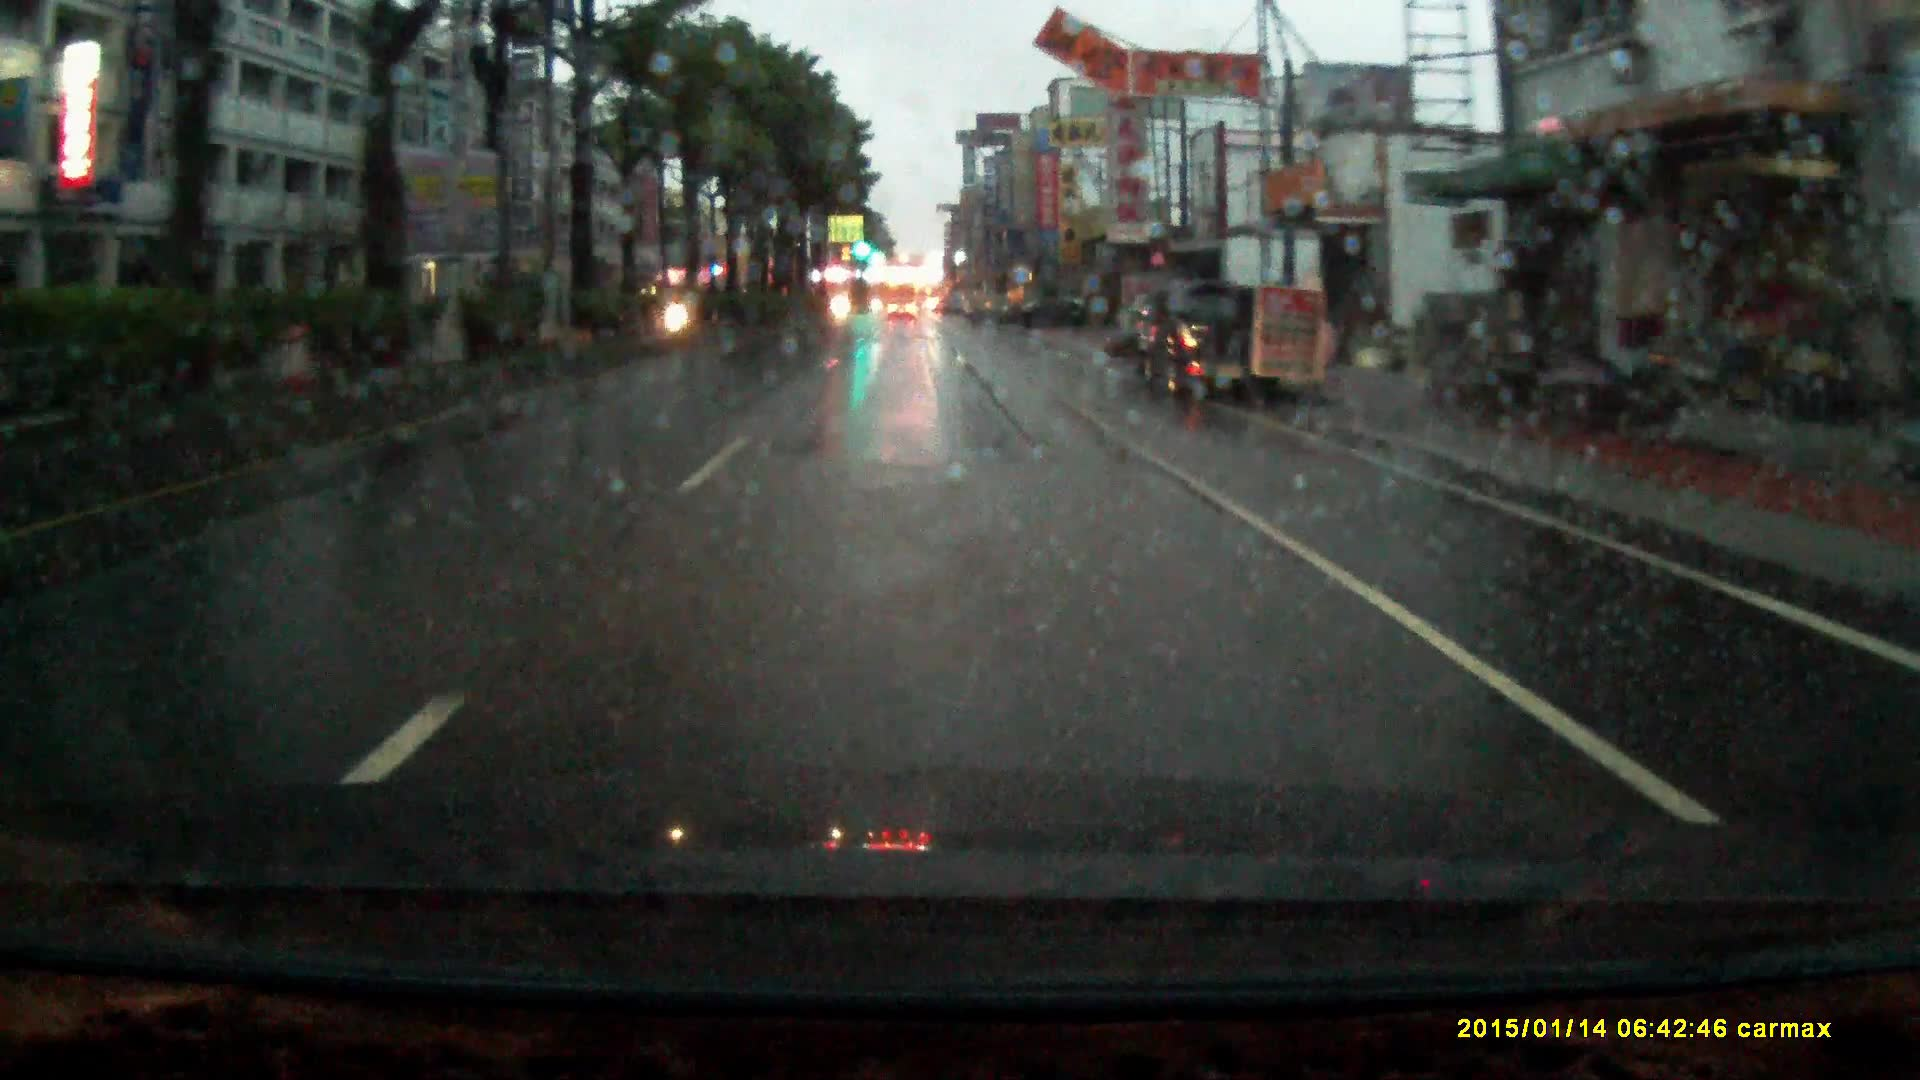vehicle: (1130, 272, 1298, 397), (887, 289, 919, 315)
